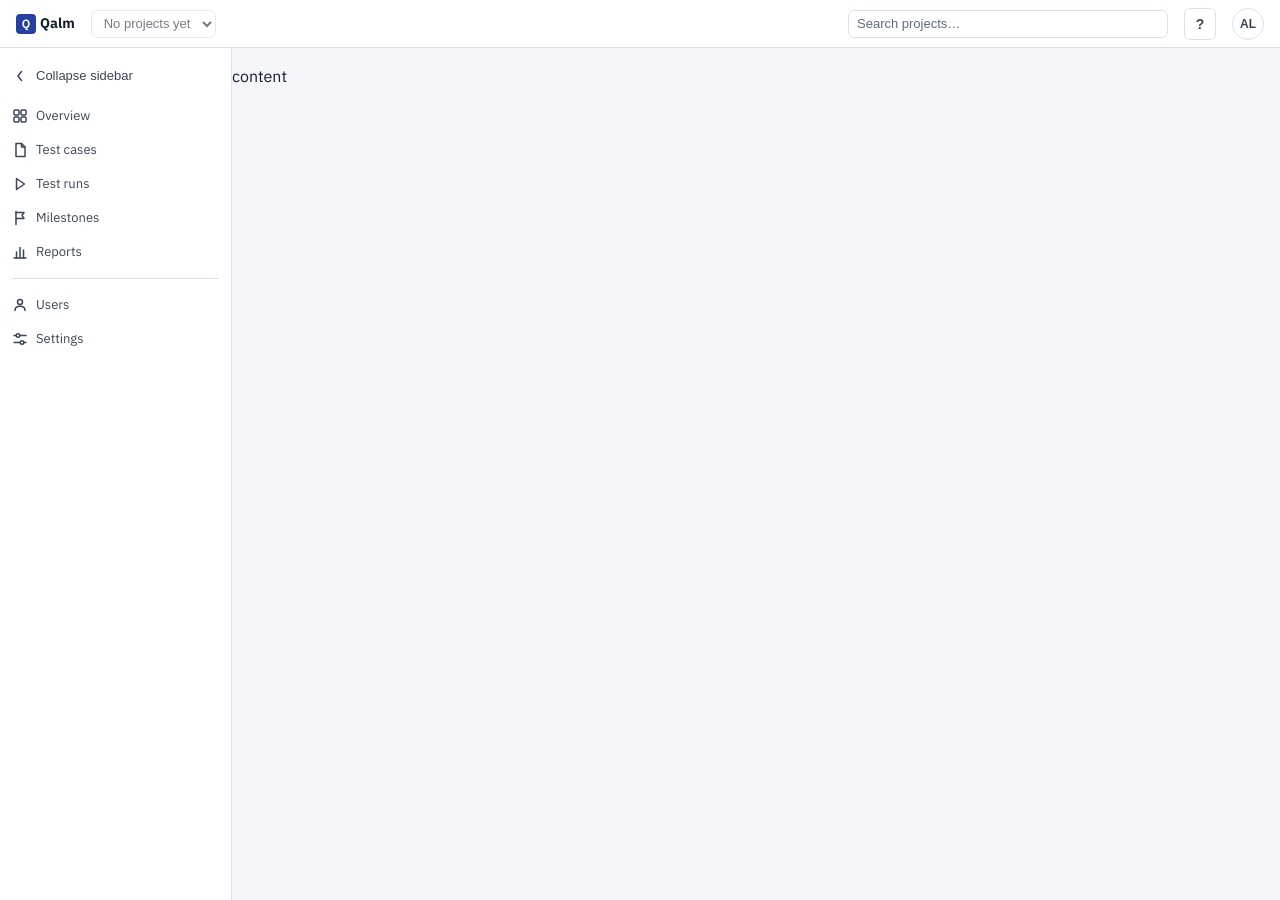
Scenario: role gating › shell avatar menu shows the temp-password hint and account link when must_change_password is set
Click the button with aria-label "Account menu for Ada Lovelace": x=1248, y=24 [1232,8,1264,40]
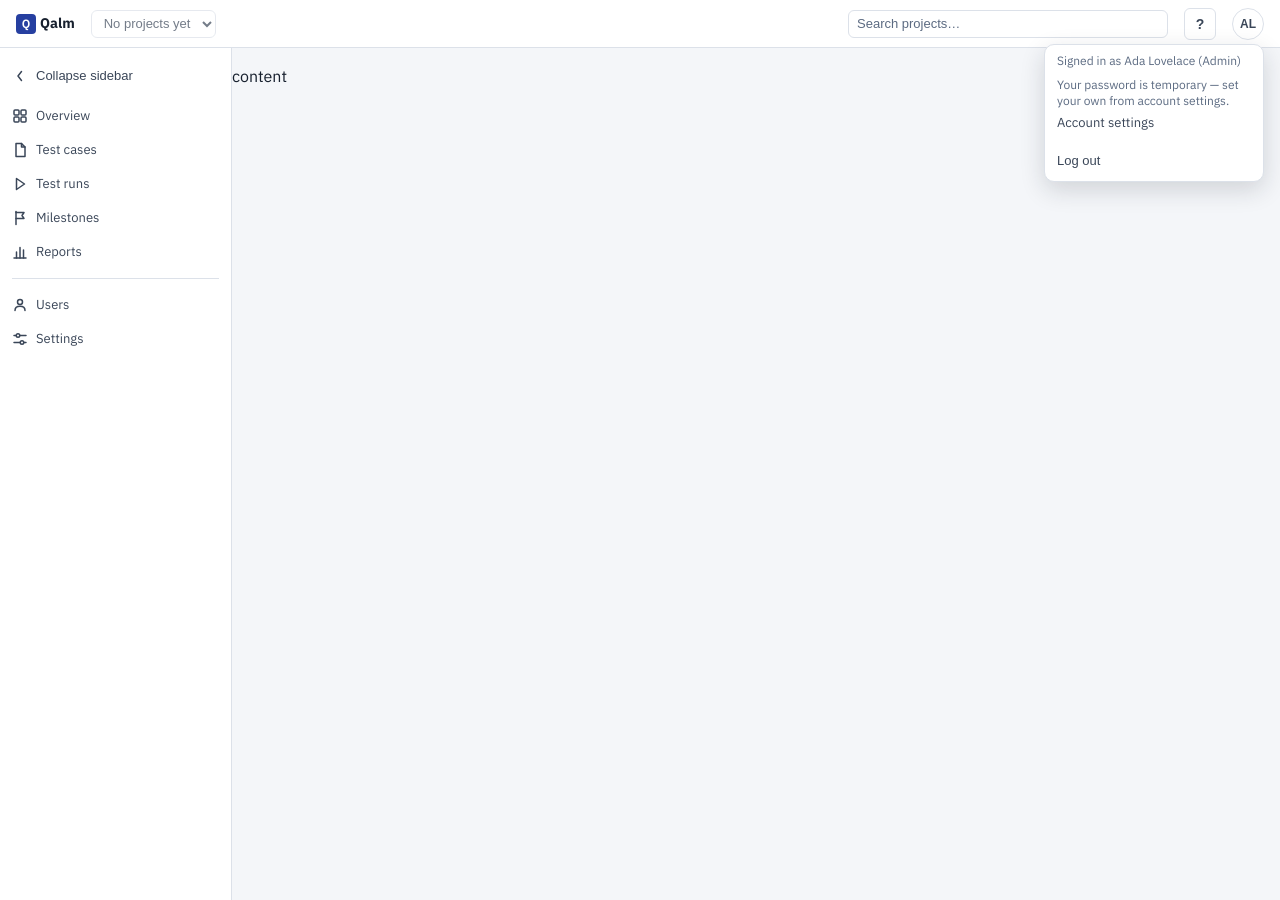
Check: the link "Account settings" is shown, box [1057,114,1154,130]
Check: the text "Your password is temporary" is shown, box [1057,76,1239,108]
